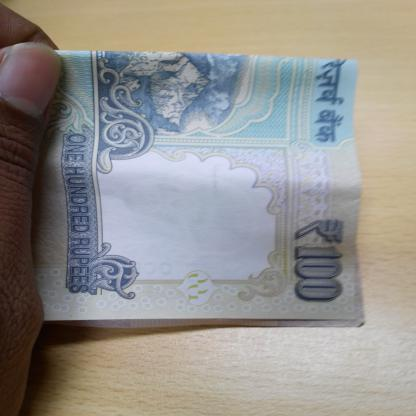Old100Back: (32, 50, 366, 331)
